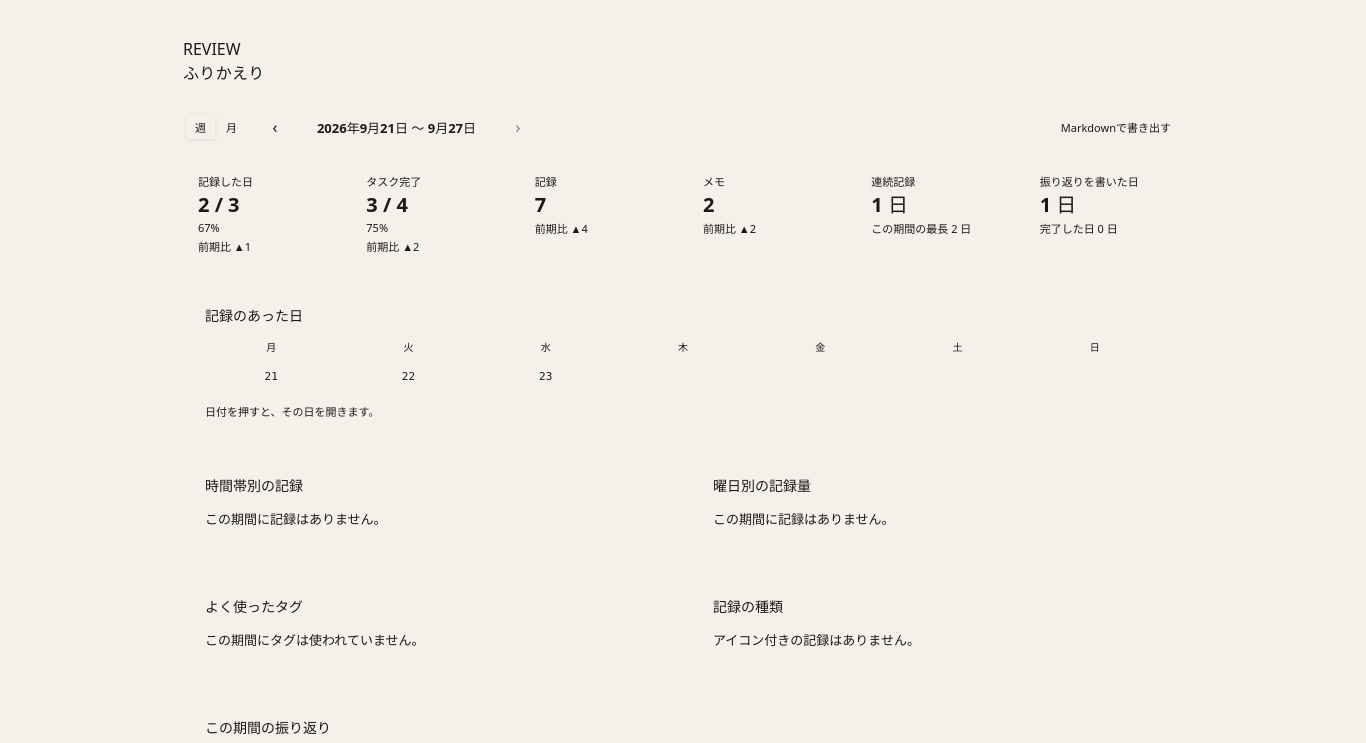
Test case: exports the shown period into the chosen folder
The width and height of the screenshot is (1366, 743).
Click the button "Markdownで書き出す": (1116, 127) [1049, 114, 1183, 140]
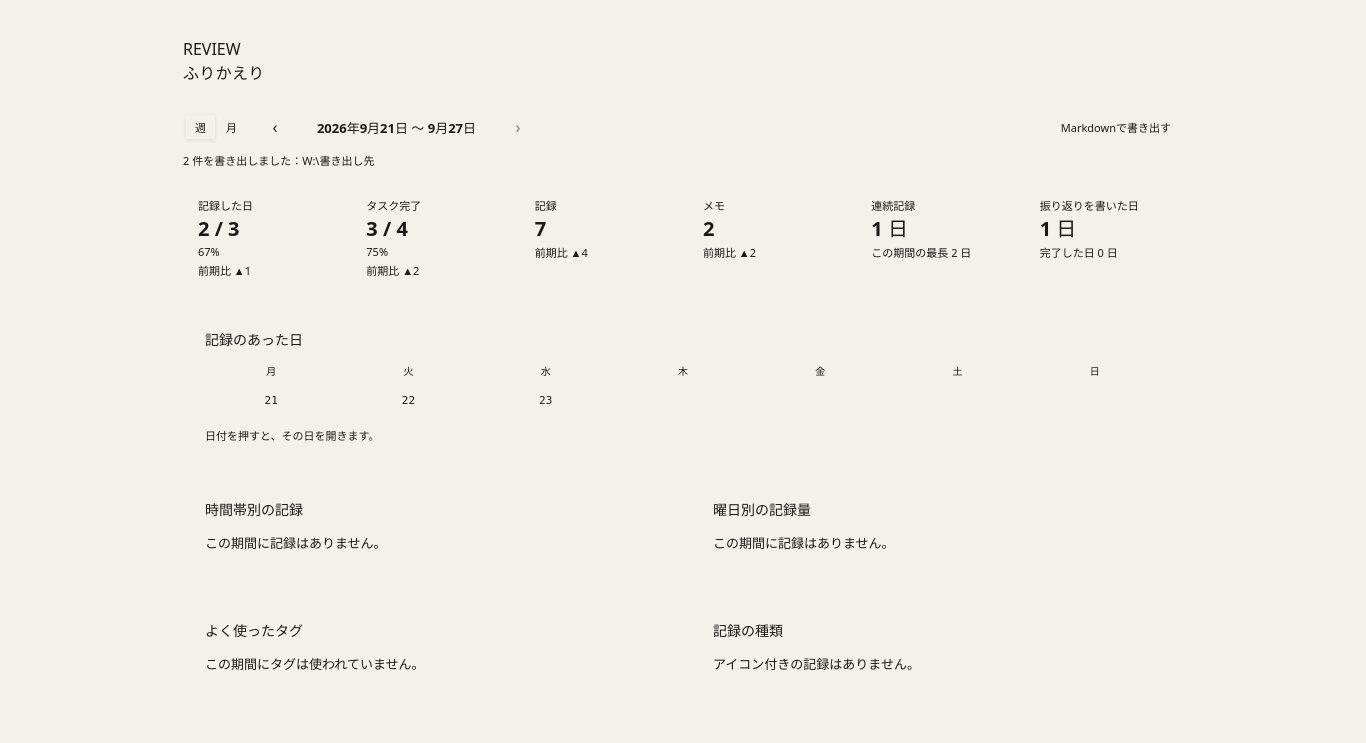
Result: the message shows "2 件を書き出しました" at [183, 153, 374, 168]
